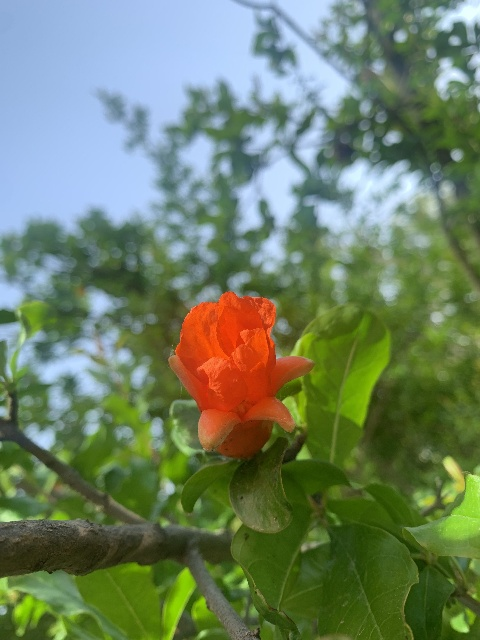flower: (167, 290, 313, 459)
